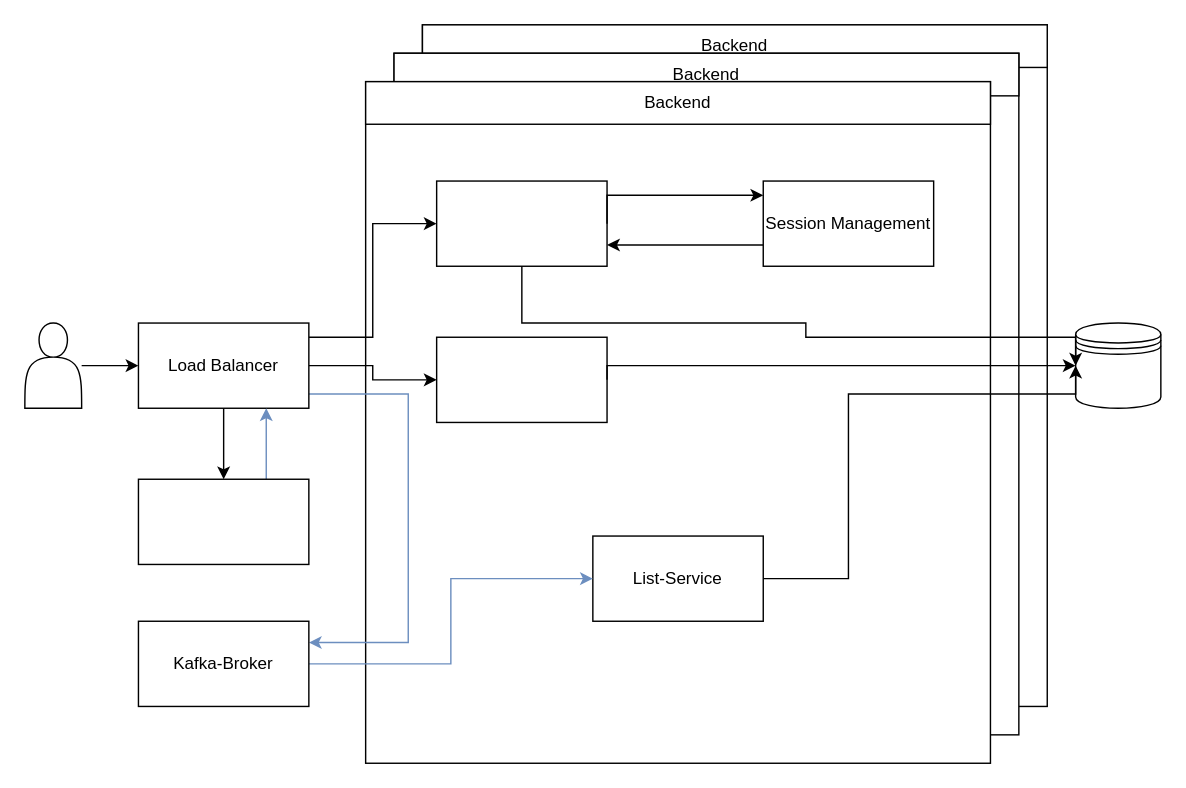
The diagram is 1186 pixels wide and 788 high, and some of its shapes have lost their labels. Each missing label, with the centre of its shape:
Frontend: point 223,521
Server: point 521,223
User-Service: point 521,379
